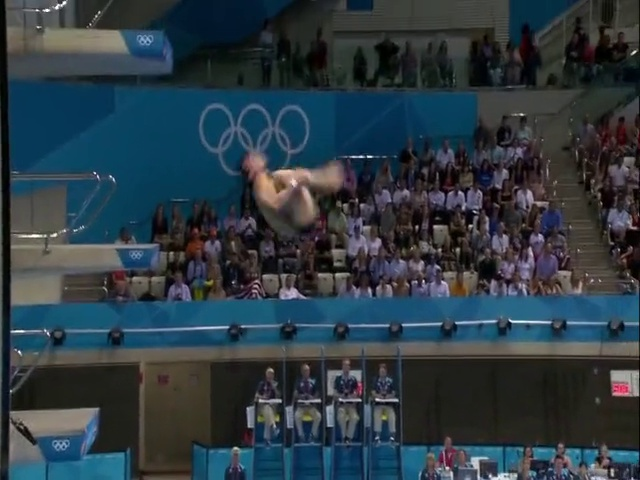diver: (240, 151, 359, 238)
